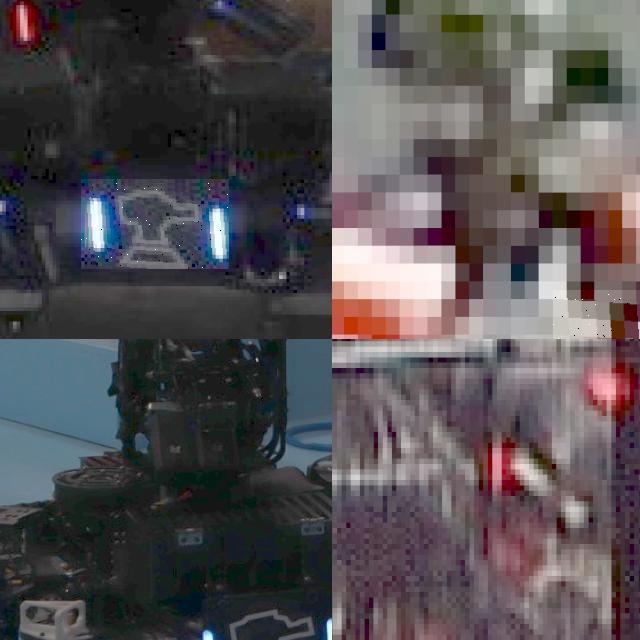Bs: (81, 179, 229, 269), (197, 606, 332, 640)
